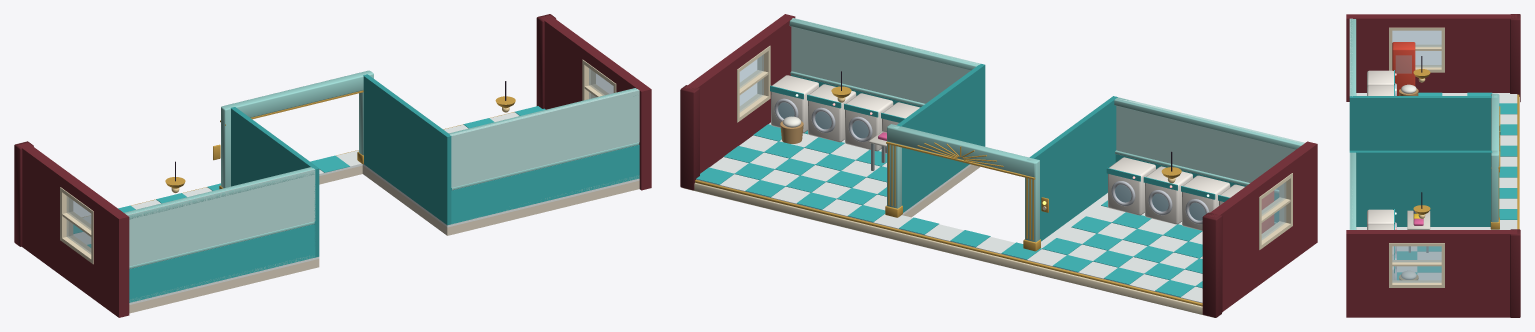
File: Floor_Laundromat.fbx
The picture shows the model from 3 angles, left to right: view 1: azimuth 30°, elevation 25°; view 2: azimuth 150°, elevation 25°; view 3: azimuth 270°, elevation 25°; orthographic projection. The views are drawn at different scales.
Visible parts, largest first — view 1: Shell; view 2: Shell; view 3: Shell.
Part boxes in pixels (left/top/right/bottom): Shell: left=14, top=14, right=651, bottom=317; Shell: left=680, top=14, right=1317, bottom=317; Shell: left=1346, top=14, right=1520, bottom=317.
Bounding box in the file's own units: 15.92 × 2.82 × 5.3.
